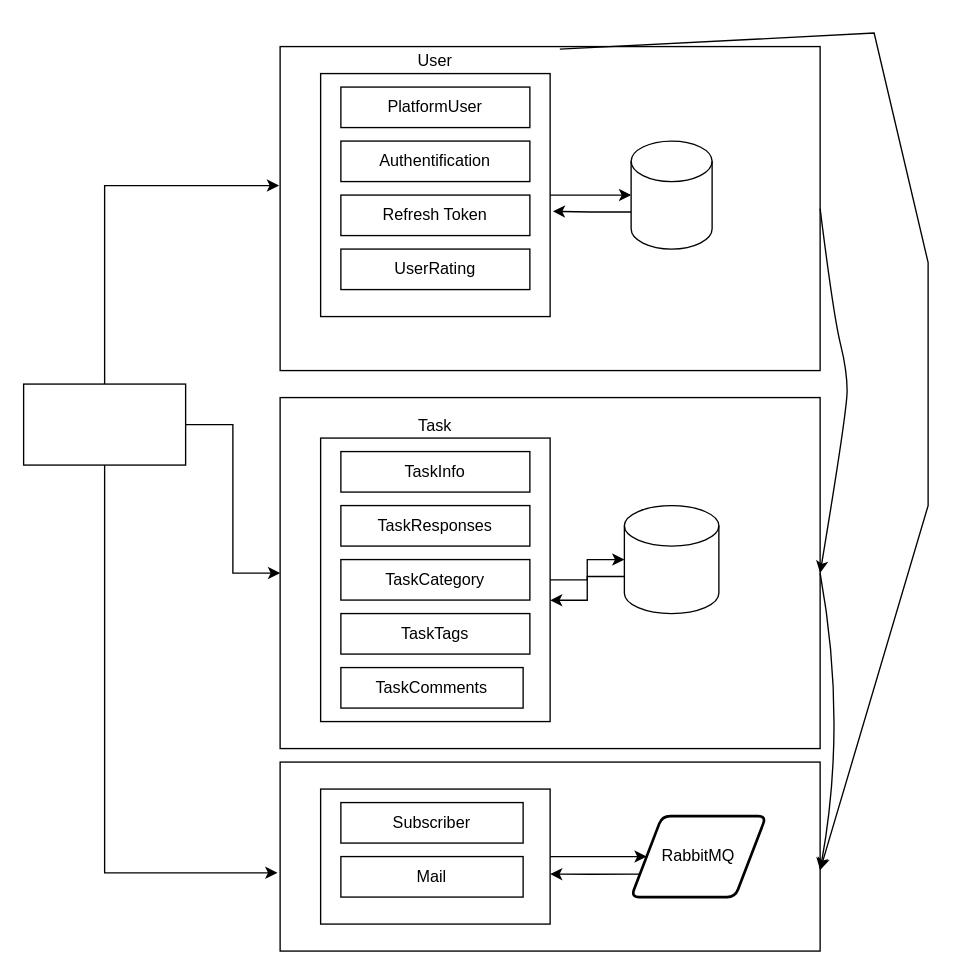
This 963x975 diagram has some shape labels left out. Each missing label, with the box of its shape:
API GATEWAY: (22, 383, 186, 465)
MongoDB: (630, 140, 712, 249)
Notify: (319, 788, 550, 924)
PostgreSQL: (623, 504, 719, 614)
